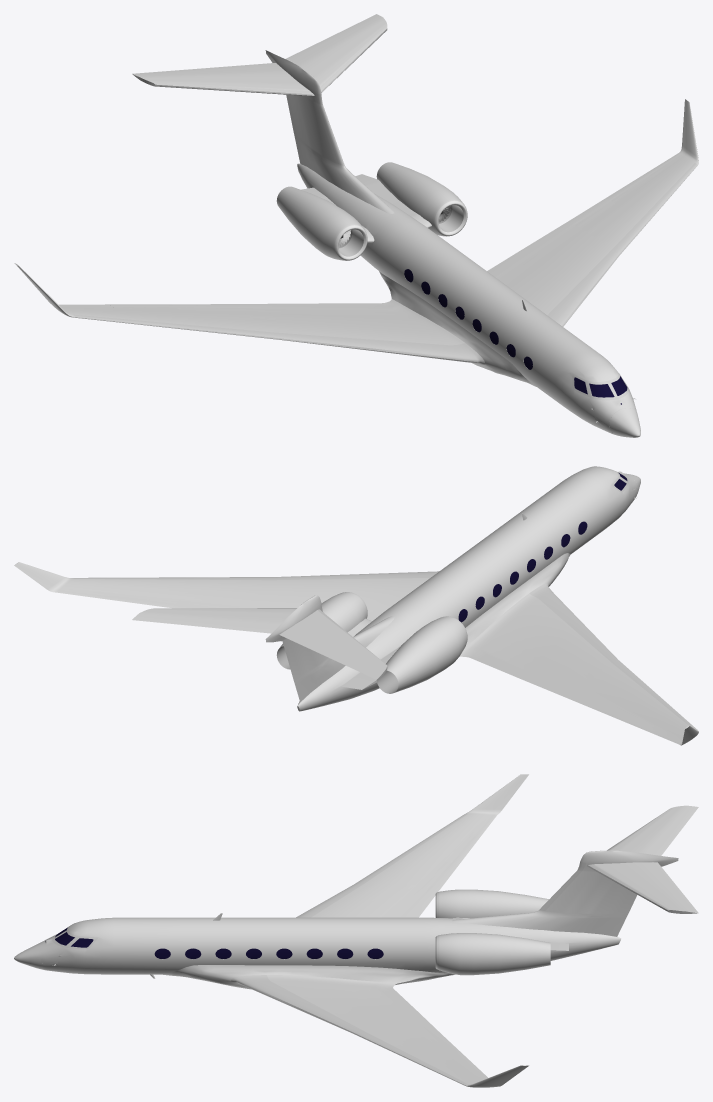
File: gulfstreamg650.glb
3 views of the same model, one above another, from view 1: azimuth 30°, elevation 25°; view 2: azimuth 150°, elevation 25°; view 3: azimuth 270°, elevation 25° (orthographic). The views are drawn at different scales.
Visible parts, largest first — view 1: Object_6, Object_7, Object_15, Object_3, Object_2; view 2: Object_6, Object_7, Object_3, Object_5; view 3: Object_6, Object_7, Object_3, Object_15.
Part boxes in pixels (bbox=[...]): Object_6: bbox=[14, 14, 698, 437]; Object_7: bbox=[73, 163, 697, 426]; Object_15: bbox=[154, 26, 387, 165]; Object_3: bbox=[404, 269, 627, 404]; Object_2: bbox=[334, 200, 467, 260]; Object_6: bbox=[14, 466, 698, 745]; Object_7: bbox=[73, 472, 696, 729]; Object_3: bbox=[458, 473, 627, 622]; Object_5: bbox=[276, 646, 398, 693]; Object_6: bbox=[14, 774, 698, 1087]; Object_7: bbox=[51, 814, 467, 1084]; Object_3: bbox=[45, 927, 383, 958]; Object_15: bbox=[539, 813, 669, 911].
Bounding box in the file's own units: 12.54 × 2.67 × 12.45.
